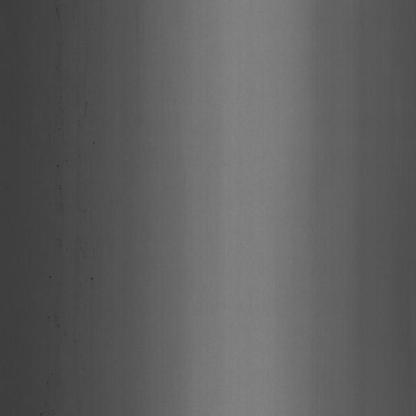inclusion: (55, 19, 65, 138), (50, 153, 64, 177), (86, 268, 99, 286)
